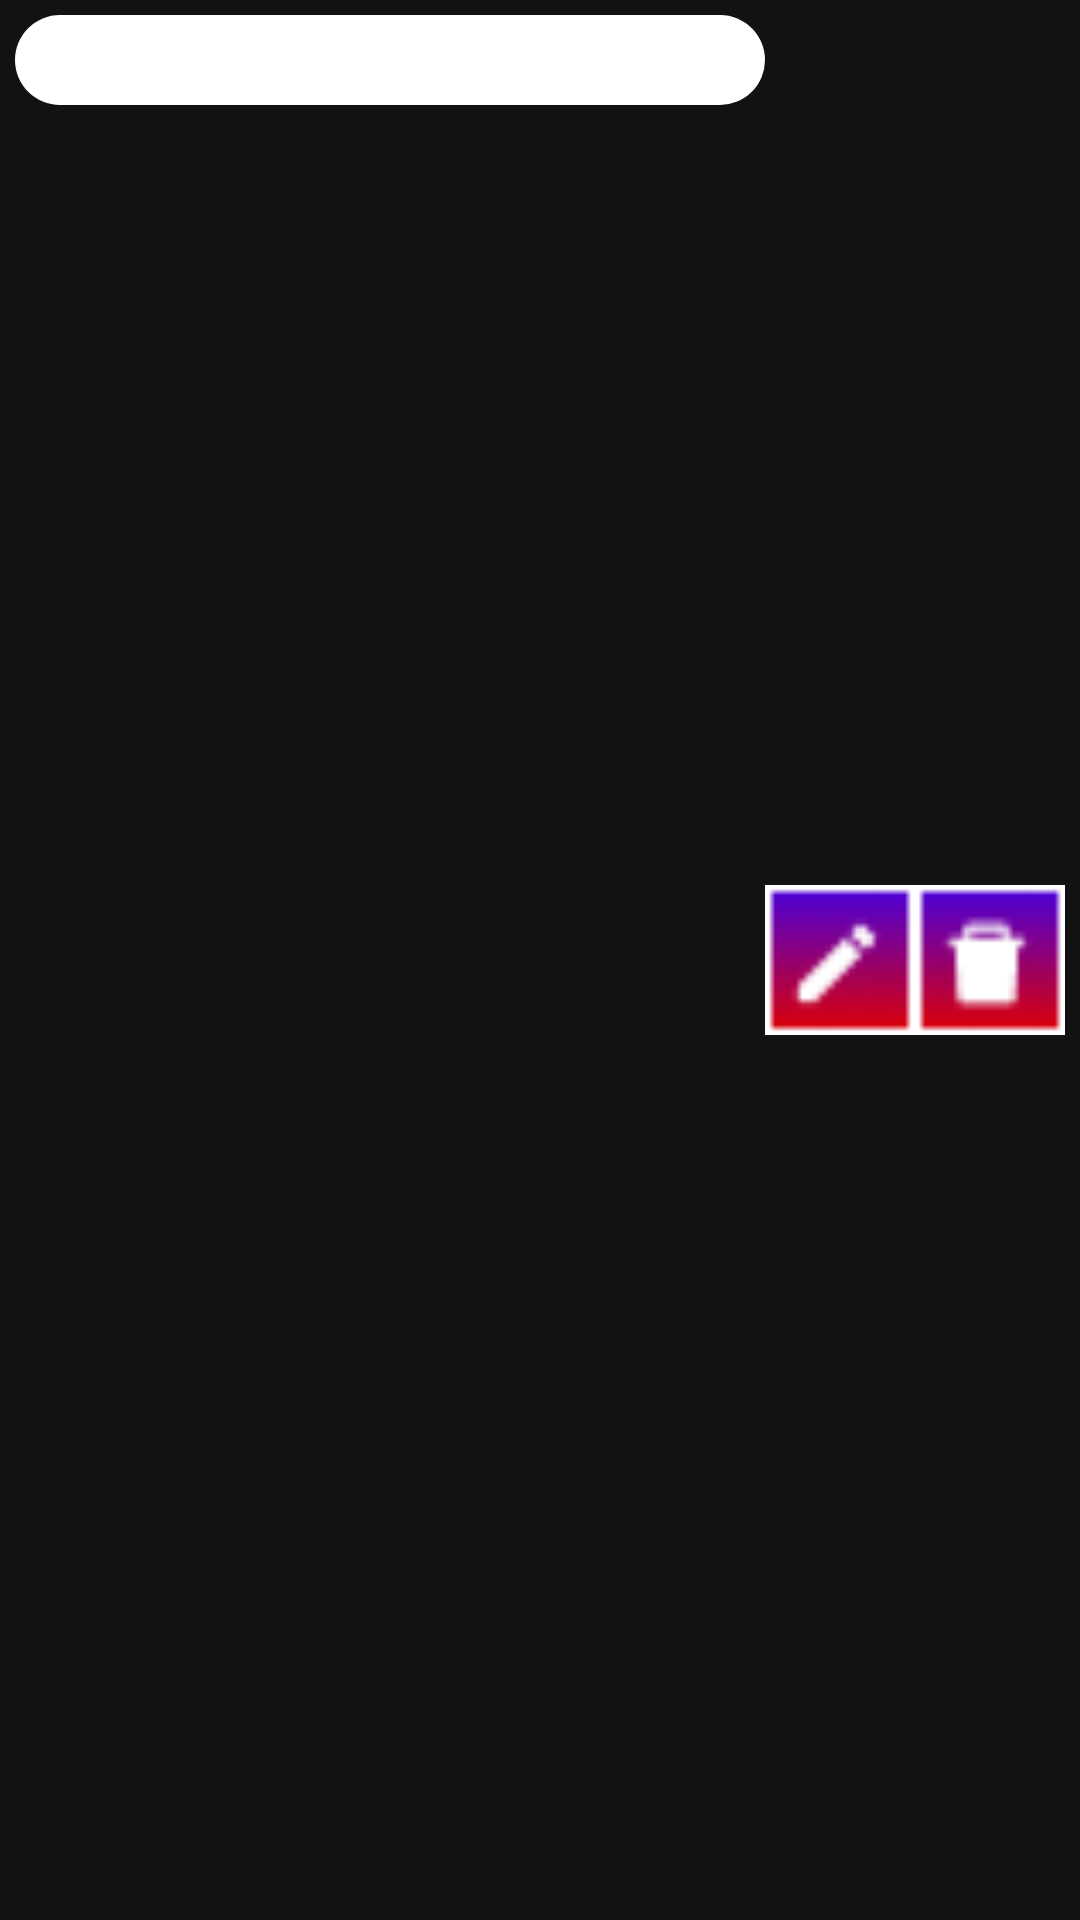

Icon click points for this 1080x1920 phone screenshot, format point (x, y):
pen: point (840, 960)
thrash: point (990, 960)
